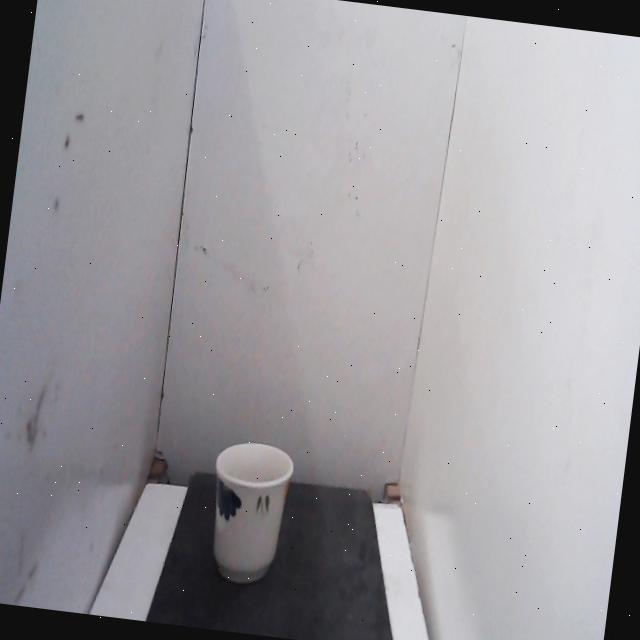vidro: (196, 432, 304, 600)
